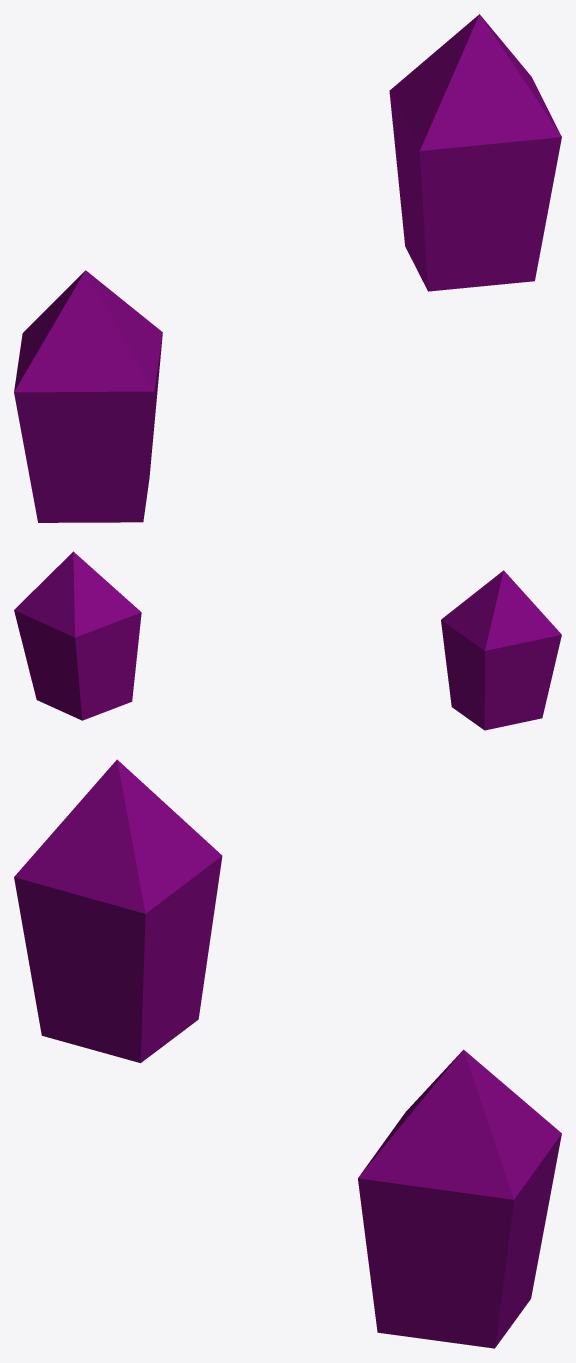
File: crystal_vitium_1.obj
The picture shows the model from 3 angles, top to bottom: view 1: azimuth 30°, elevation 25°; view 2: azimuth 150°, elevation 25°; view 3: azimuth 270°, elevation 25°; orthographic projection. The views are drawn at different scales.
Visible parts, largest first — view 1: s014, s015; view 2: s014, s015; view 3: s015, s014.
Part boxes in pixels (x1,y1,x2,y2): s014: (389,14,561,291); s015: (14,270,162,522); s014: (14,551,141,720); s015: (441,570,561,730); s015: (14,759,222,1063); s014: (358,1049,561,1348).
Size of the model in its own units: 0.8279 by 0.2728 by 0.4947.
